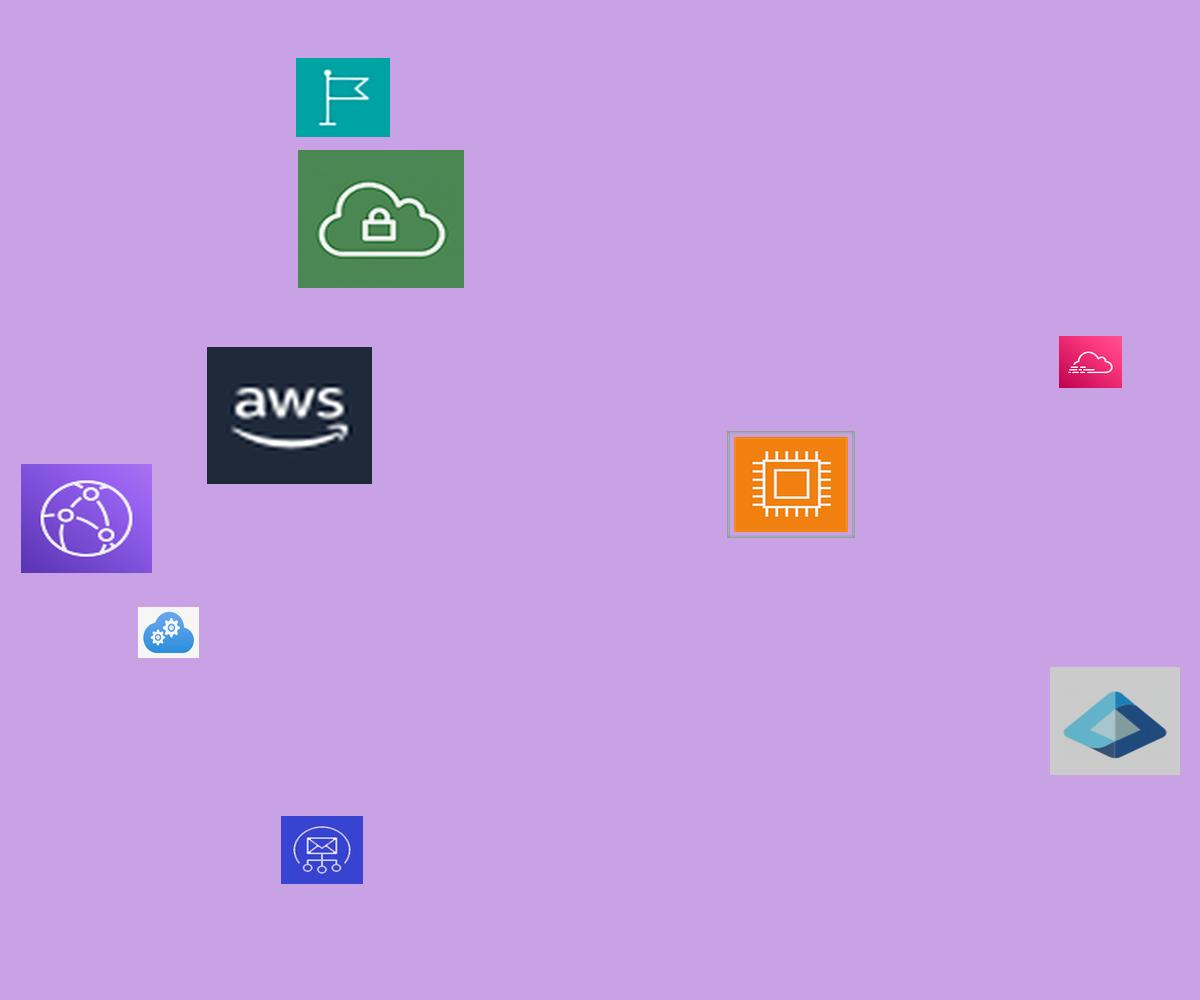AWS-Category_Compute: (727, 431, 855, 538)
AWS-Cloud-logo: (207, 347, 372, 484)
AWS-CloudFront: (21, 464, 152, 573)
AWS-CloudTrail: (1059, 336, 1122, 388)
AWS-Private_vpc: (298, 150, 464, 288)
AWS-Region: (296, 58, 390, 137)
AWS-Simple-Email-Service: (281, 816, 363, 884)
Azure_cloud_services: (138, 607, 199, 658)
Azure_microsoft_entra: (1050, 667, 1180, 775)
